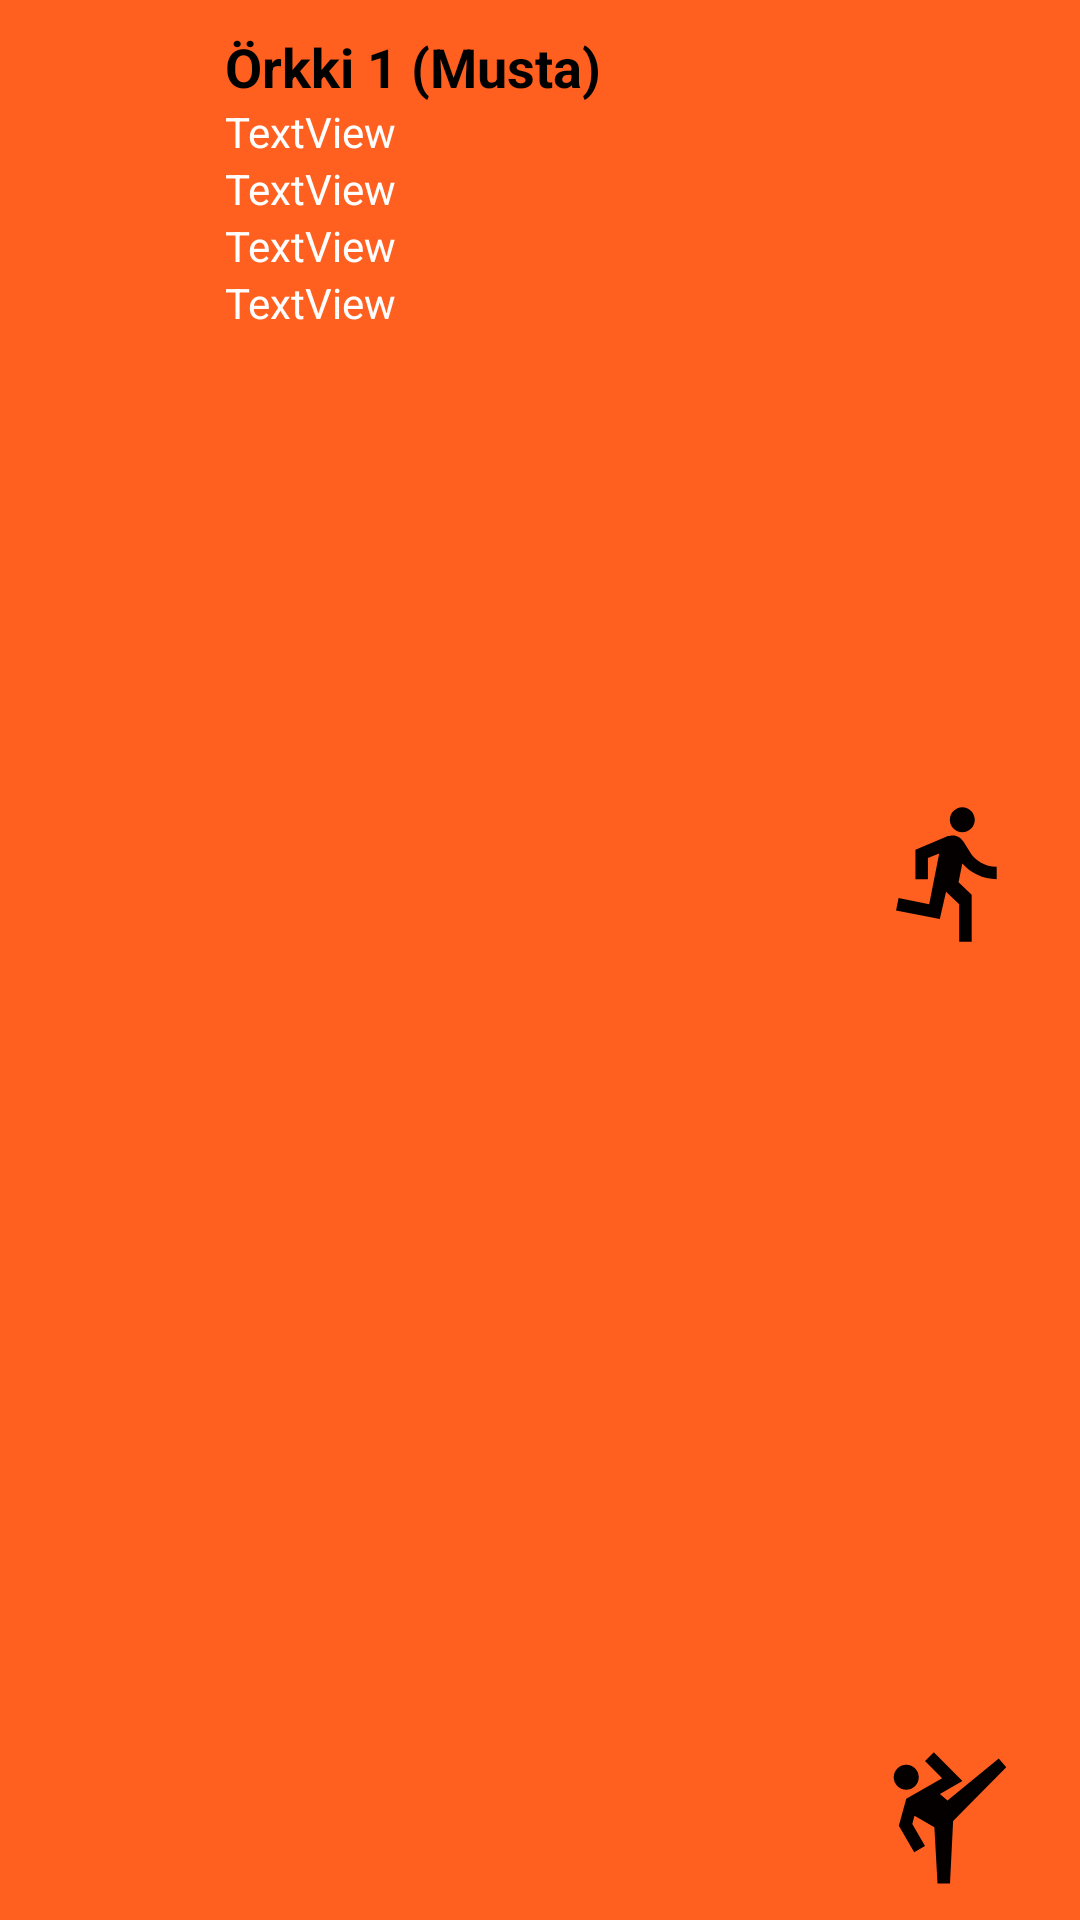

Icons on this 1080w x 1920h Android screen, each with its box as (x1, y1, x2, y2):
fight: (893, 1752, 1006, 1884)
